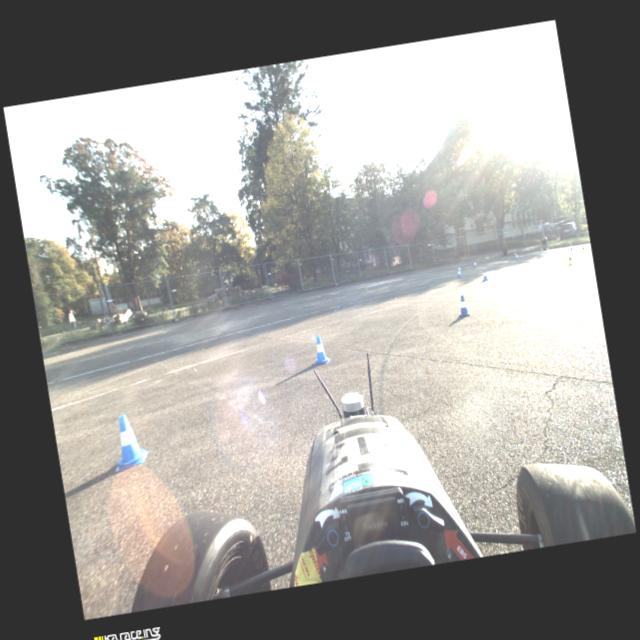blue_cone: (106, 412, 152, 472), (309, 334, 332, 367), (454, 294, 472, 318), (480, 268, 489, 281), (456, 268, 462, 278), (514, 252, 520, 260), (472, 260, 477, 269), (457, 264, 462, 273), (570, 243, 574, 251)
yellow_cone: (566, 253, 573, 266), (581, 246, 585, 253)
